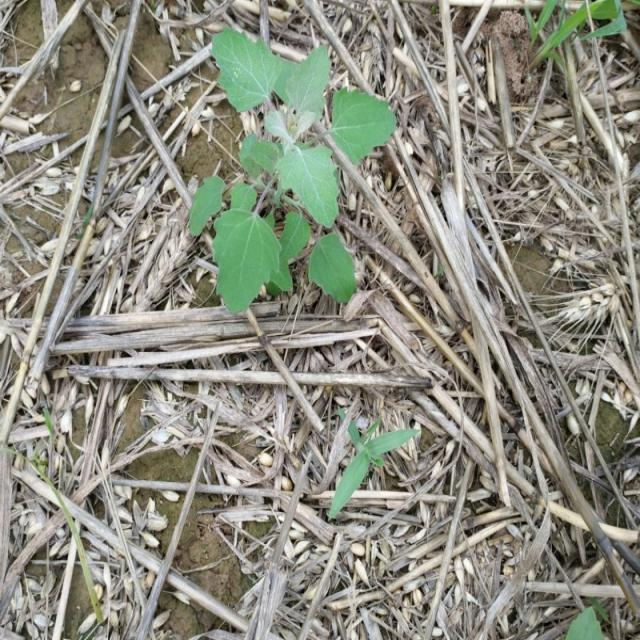goosefoots: (192, 22, 397, 318)
